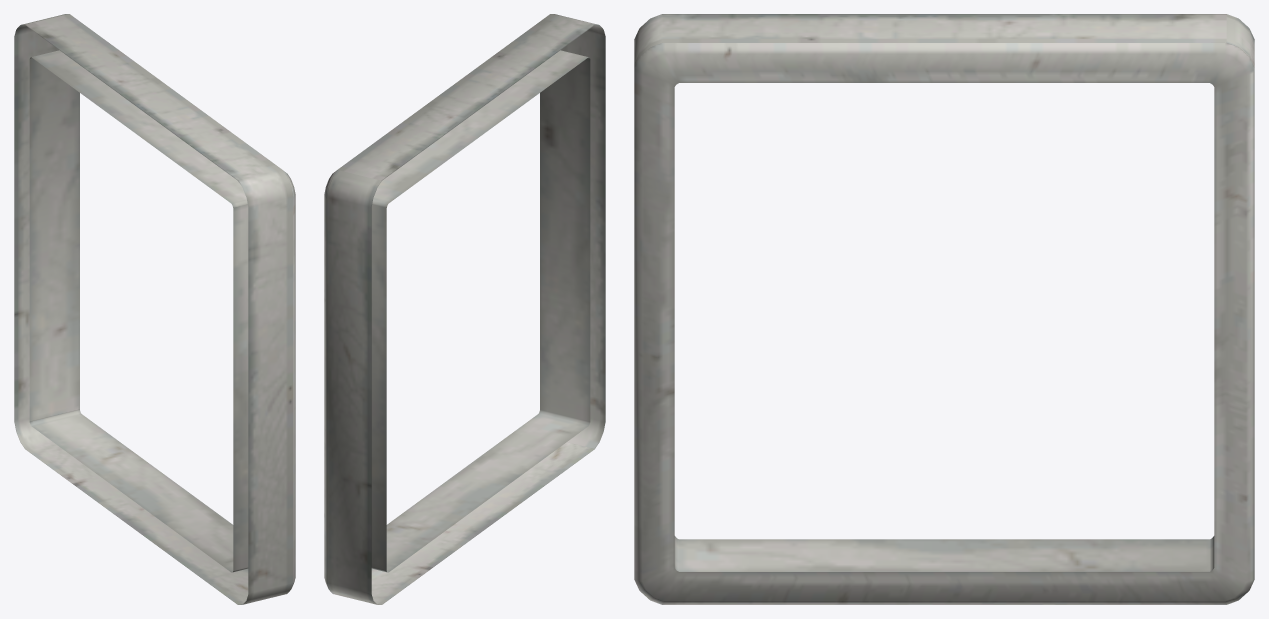
File: sign_frame01.glb
The picture shows the model from 3 angles, left to right: view 1: azimuth 30°, elevation 25°; view 2: azimuth 150°, elevation 25°; view 3: azimuth 270°, elevation 25°; orthographic projection. The views are drawn at different scales.
Parts seen in each view (by area): view 1: sign_frame01_parts\obj\sign_frame01.obj; view 2: sign_frame01_parts\obj\sign_frame01.obj; view 3: sign_frame01_parts\obj\sign_frame01.obj.
Boxes of the visible parts, x1=… form: sign_frame01_parts\obj\sign_frame01.obj: x1=14, y1=14, x2=295, y2=604; sign_frame01_parts\obj\sign_frame01.obj: x1=324, y1=14, x2=605, y2=604; sign_frame01_parts\obj\sign_frame01.obj: x1=634, y1=14, x2=1254, y2=604.
Size of the model in its own units: 0.0831 by 0.67 by 0.67.
Materials: 1 (1 with a texture image).
